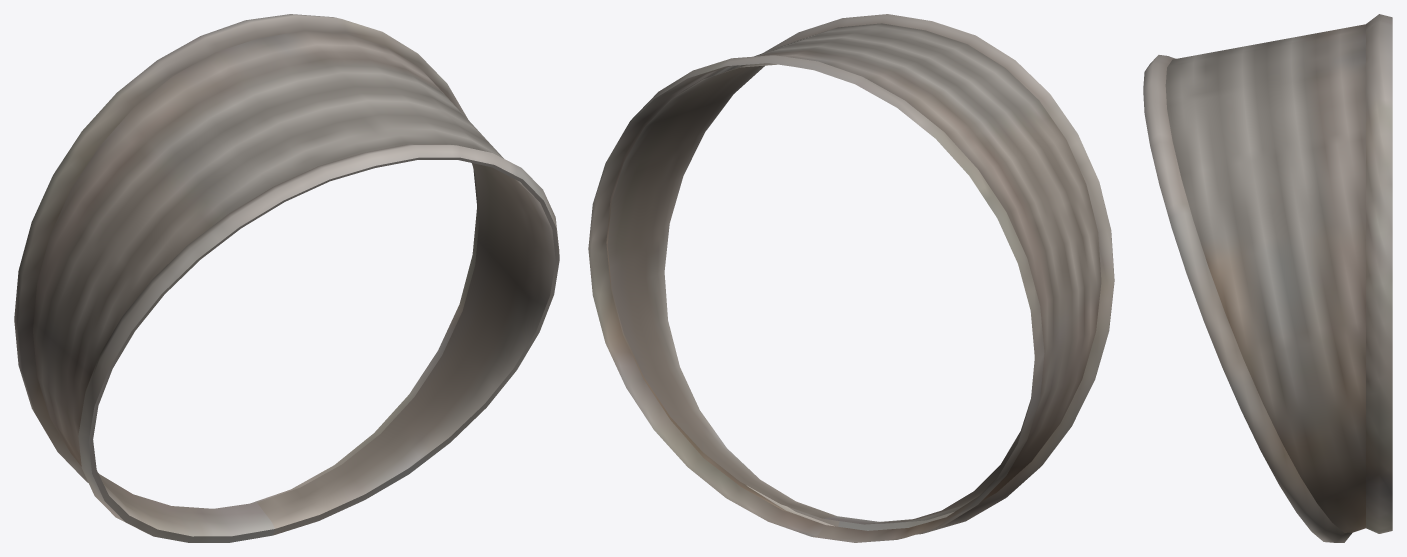
The model's file is duct_round_bend.glb.
3 renders of one model, left to right at view 1: azimuth 30°, elevation 25°; view 2: azimuth 150°, elevation 25°; view 3: azimuth 270°, elevation 25°, orthographic. The views are drawn at different scales.
Parts seen in each view (by area): view 1: duct_round_bend; view 2: duct_round_bend; view 3: duct_round_bend.
Boxes of the visible parts, x1,y1,x2,y2 form: duct_round_bend: (14,14,559,542); duct_round_bend: (588,14,1114,542); duct_round_bend: (1143,14,1392,542).
Bounding box in the file's own units: 0.3713 × 0.377 × 0.178.
1 material, 1 textured.
